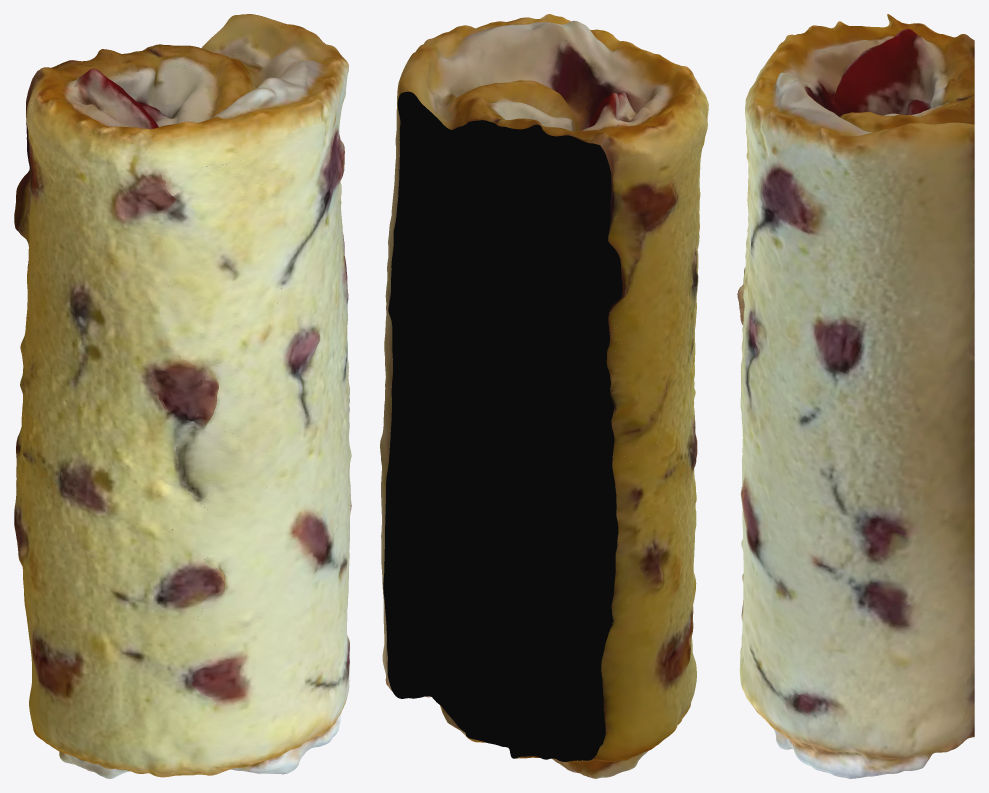
File: sakura_cake_roll.glb
3 views of the same model, side by side, from view 1: azimuth 30°, elevation 25°; view 2: azimuth 150°, elevation 25°; view 3: azimuth 270°, elevation 25° (orthographic). The views are drawn at different scales.
Visible parts, largest first — view 1: Object_3, Object_2, Object_4; view 2: Object_5, Object_2, Object_3, Object_4; view 3: Object_2, Object_3, Object_4.
Part boxes in pixels (<box>): Object_3: <box>14,49,351,778</box>; Object_2: <box>14,14,350,778</box>; Object_4: <box>36,45,327,773</box>; Object_5: <box>383,91,622,761</box>; Object_2: <box>380,14,699,778</box>; Object_3: <box>381,40,703,768</box>; Object_4: <box>424,39,708,696</box>; Object_2: <box>737,14,974,778</box>; Object_3: <box>742,25,971,759</box>; Object_4: <box>738,17,972,749</box>.
Bounding box in the file's own units: 0.1018 × 0.2287 × 0.0734.
1 material, 1 textured.
